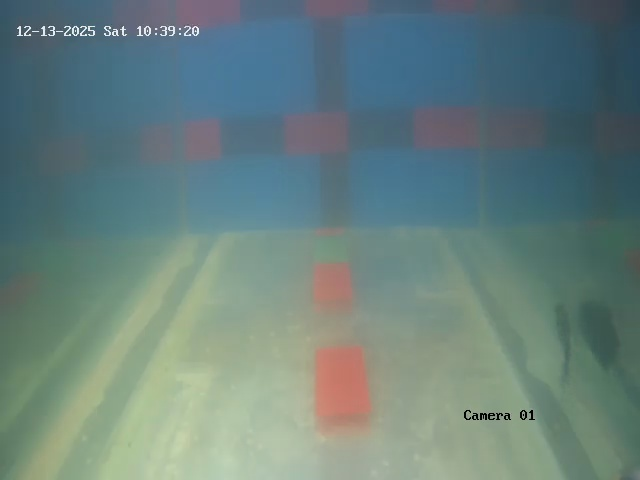fish: (547, 296, 581, 385)
